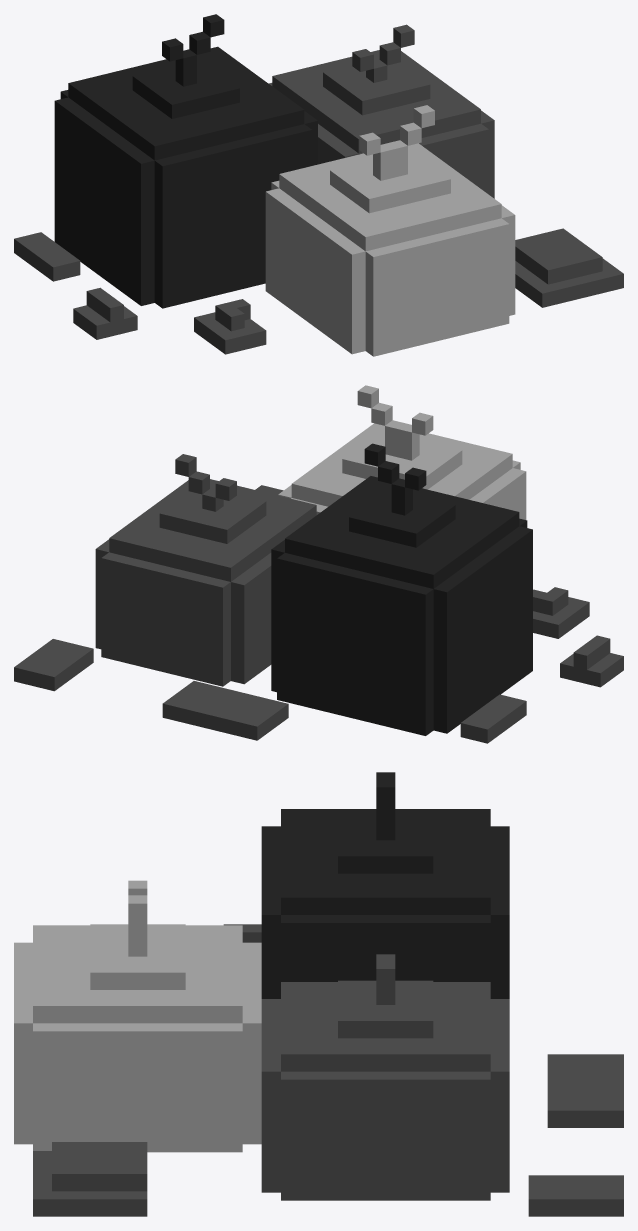
File: trash.obj
The picture shows the model from 3 angles, top to bottom: view 1: azimuth 30°, elevation 25°; view 2: azimuth 150°, elevation 25°; view 3: azimuth 270°, elevation 25°; orthographic projection. The views are drawn at different scales.
Size of the model in its own units: 3.3 by 1.6 by 3.2.
